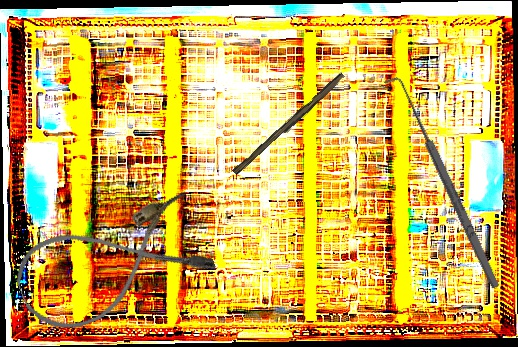Cannula: (6, 186, 219, 343)
Hook Surgical: (383, 71, 504, 295)
Scalpel Handle: (231, 70, 348, 179)
